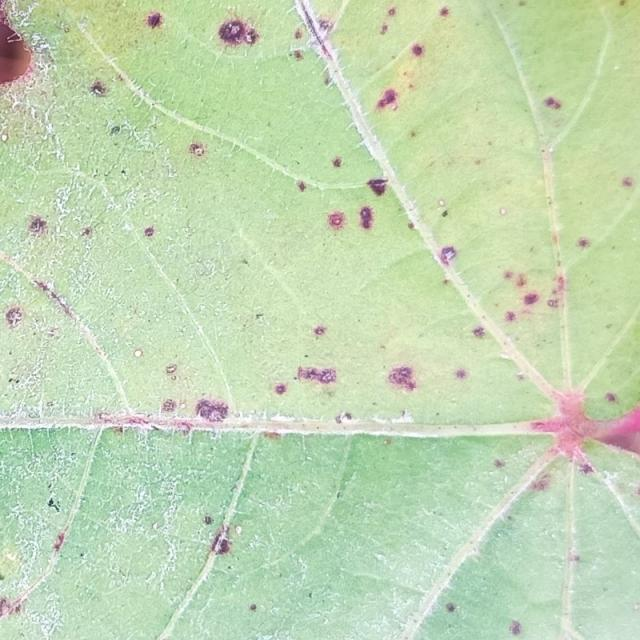Bacterial_Blight: (0, 0, 552, 429), (0, 276, 82, 384), (374, 41, 429, 114), (497, 267, 565, 326), (270, 349, 343, 401), (19, 211, 100, 244), (153, 395, 236, 426), (214, 7, 263, 53), (95, 414, 199, 435), (292, 13, 336, 62), (2, 299, 60, 335), (32, 280, 79, 323), (202, 511, 241, 558), (102, 119, 149, 149), (353, 201, 386, 236), (387, 365, 418, 392), (378, 6, 402, 37), (0, 596, 22, 621), (503, 269, 528, 289), (376, 89, 398, 111), (27, 215, 48, 236), (5, 306, 24, 328), (531, 473, 551, 492), (367, 178, 388, 196), (327, 211, 346, 230), (439, 245, 457, 264), (89, 79, 108, 96), (146, 11, 163, 29), (188, 142, 207, 158), (52, 531, 66, 552), (317, 17, 334, 34), (543, 96, 561, 110), (162, 399, 177, 413), (509, 620, 522, 636), (47, 497, 60, 511), (471, 326, 486, 338), (579, 462, 594, 474), (411, 43, 424, 56), (273, 383, 287, 395), (576, 237, 591, 248), (621, 176, 634, 188), (263, 432, 281, 440), (313, 325, 326, 336), (605, 392, 618, 403), (504, 311, 516, 322), (292, 50, 304, 61), (455, 369, 468, 379), (144, 226, 155, 237), (439, 6, 450, 17), (165, 364, 177, 374), (297, 181, 307, 192), (446, 602, 456, 613), (110, 125, 121, 135), (493, 459, 505, 468), (568, 553, 580, 562), (332, 157, 342, 167), (203, 515, 213, 525), (294, 28, 303, 39), (380, 24, 388, 35), (387, 7, 396, 16), (249, 604, 257, 612), (441, 209, 448, 217), (619, 0, 626, 7)
Cotton: (312, 0, 639, 418), (0, 428, 551, 639), (416, 458, 567, 639), (572, 473, 639, 639)
